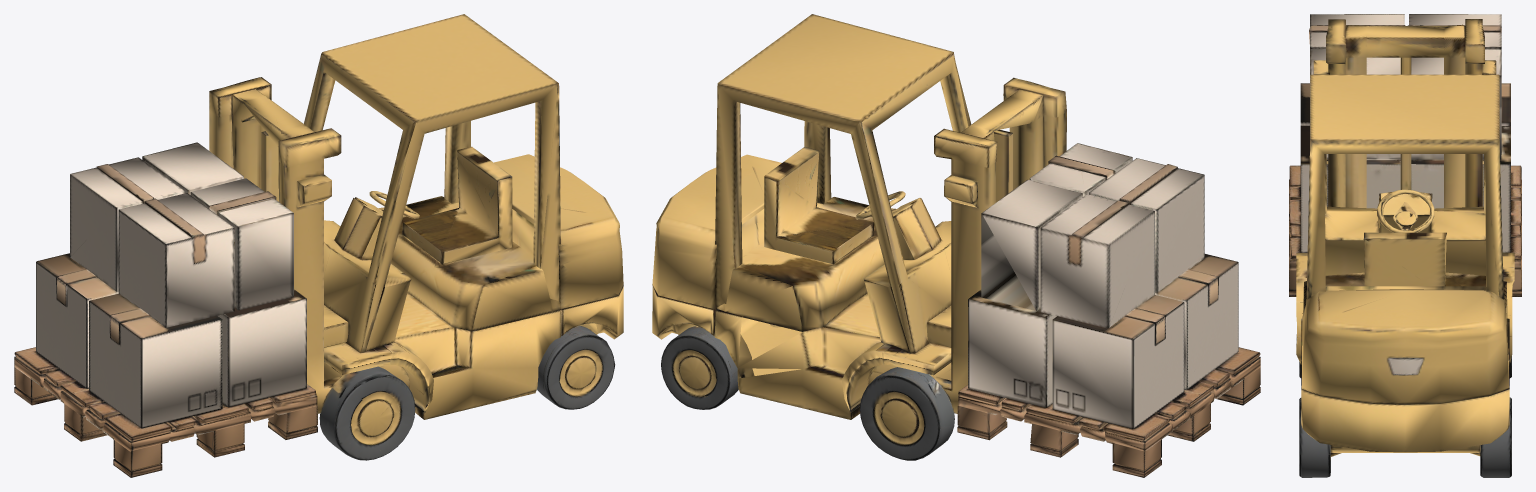
The model's file is forklift.raw.glb.
The picture shows the model from 3 angles, left to right: view 1: azimuth 30°, elevation 25°; view 2: azimuth 150°, elevation 25°; view 3: azimuth 270°, elevation 25°; orthographic projection.
Bounding box in the file's own units: 0.9546 × 0.5669 × 0.3667.
1 material, 1 textured.
